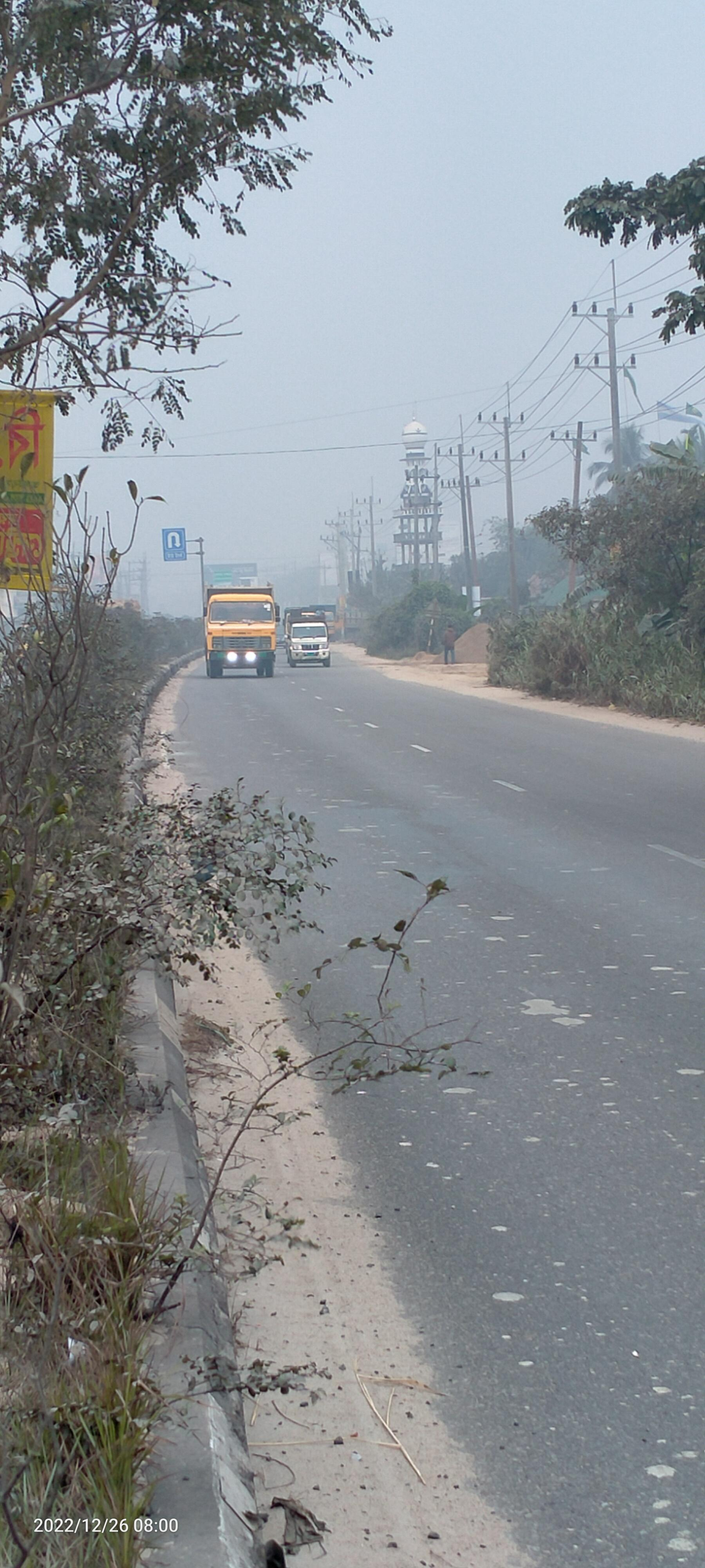Truck: (195, 583, 280, 681), (285, 610, 333, 676)
